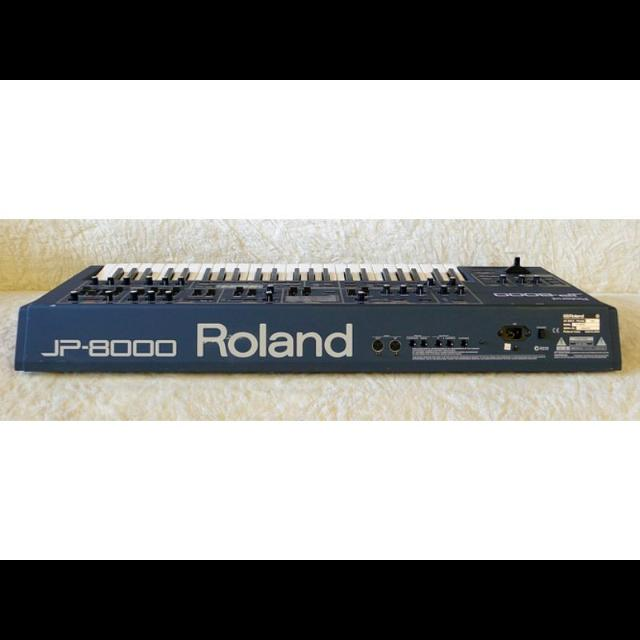Electronic-Keyboard: (15, 250, 622, 382)
